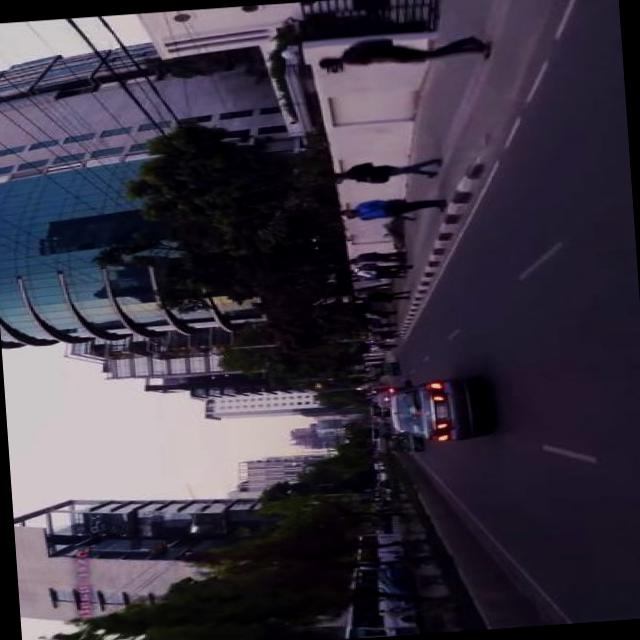bus: (340, 561, 423, 637), (348, 528, 403, 582)
car: (386, 372, 479, 443), (372, 384, 398, 408)
motorcycle: (372, 431, 416, 452), (365, 359, 394, 375)
